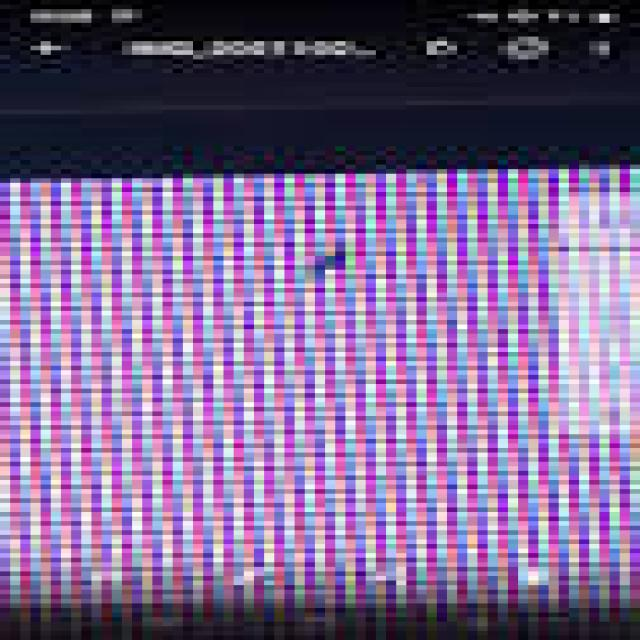dead_pixel: (297, 250, 357, 274)
